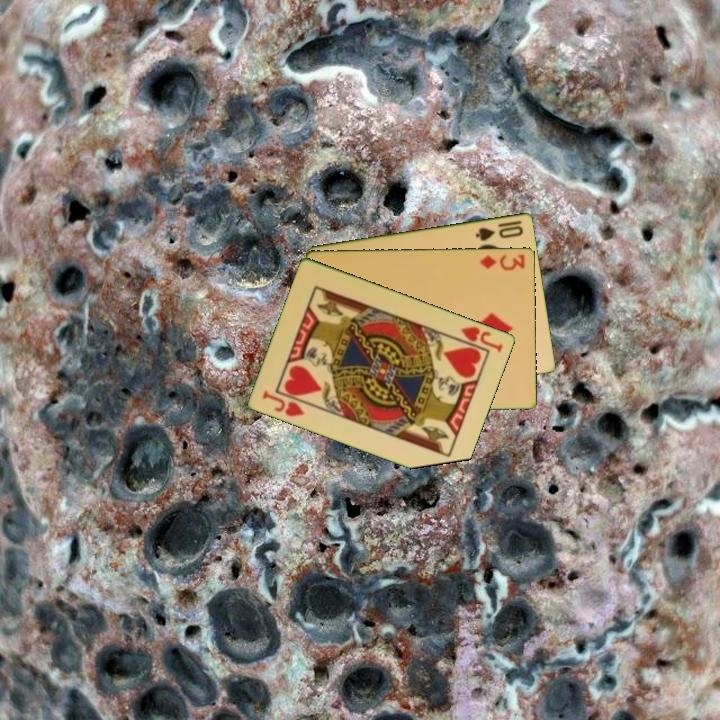10s: (472, 222, 526, 243)
3d: (476, 250, 528, 273)
Jh: (259, 387, 308, 419), (458, 323, 506, 355)
